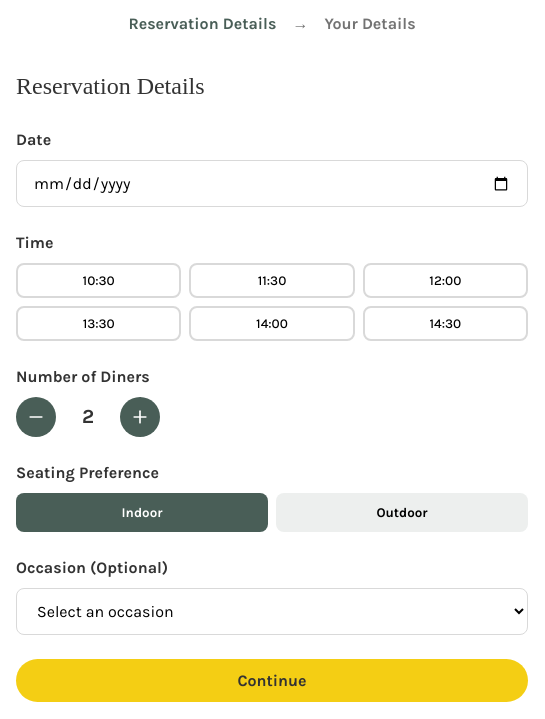
Scenario: BookingForm › allows guest count to be increased and decreased
Expected: the text "2" is shown, [82, 405, 94, 428]
# Increase guests
Click the button named "Increase number of guests". click: click(140, 417)
box: [120, 397, 160, 437]
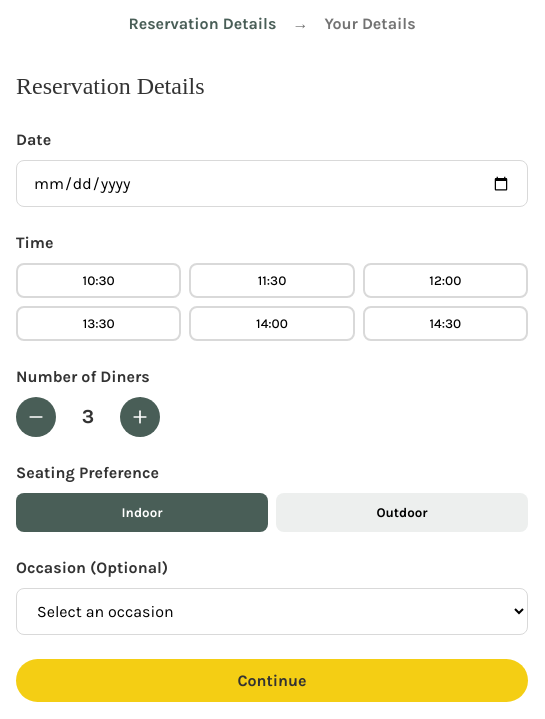
Now the text "3" is shown, box [82, 405, 94, 428]
# Decrease guests
Click the button named "Decrease number of guests". click: click(36, 417)
box: [16, 397, 56, 437]
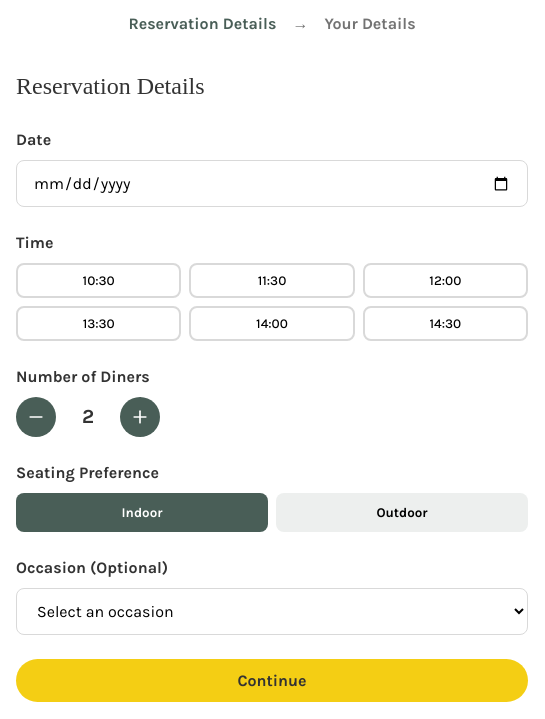
Now the text "2" is shown, box [82, 405, 94, 428]
